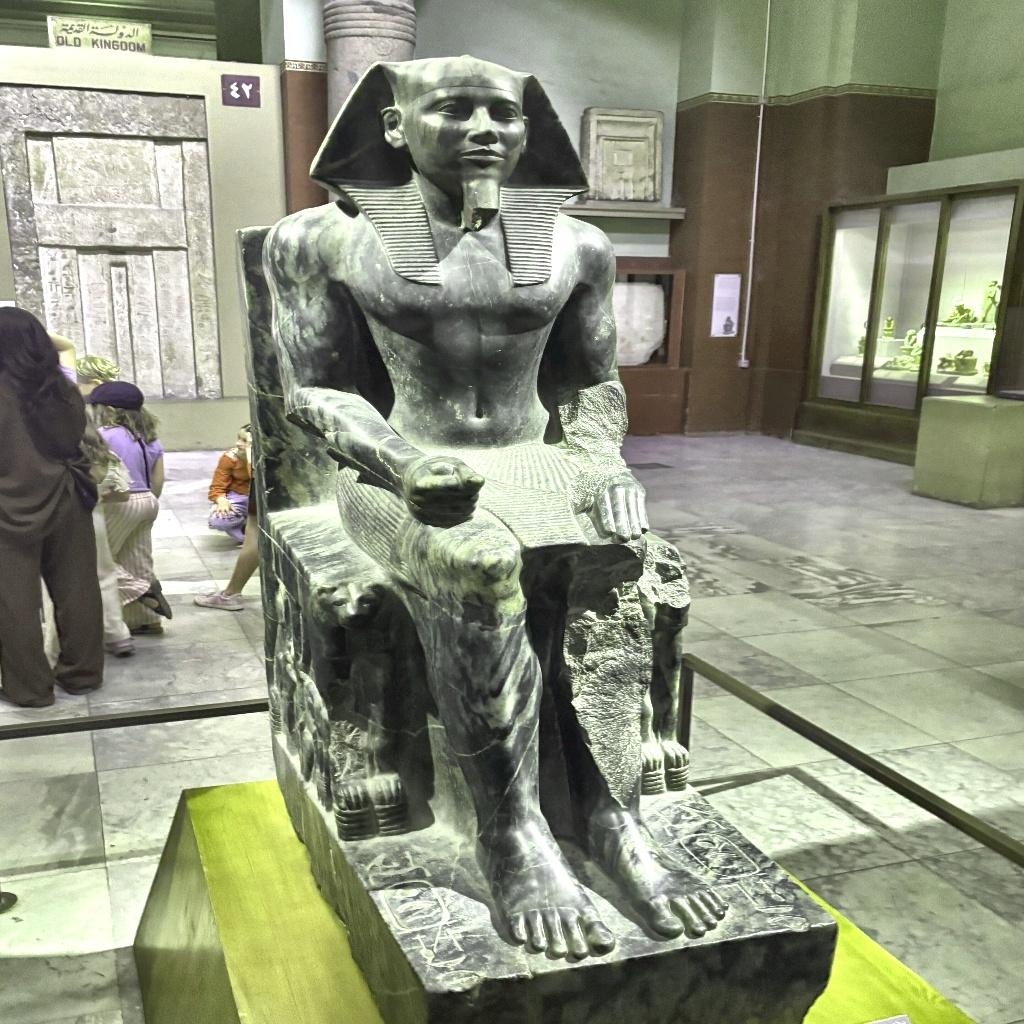Statue of Khafre: (266, 56, 734, 964)
